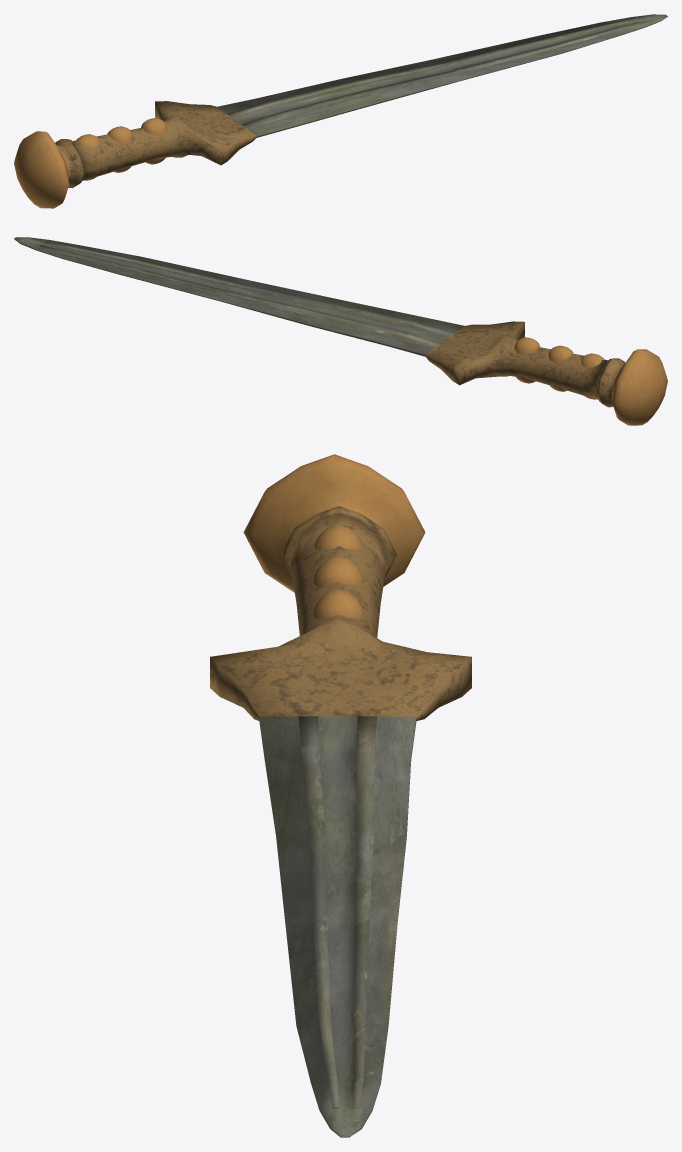
Rendered from bronze_age_short_sword.glb.
3 views of the same model, one above another, from view 1: azimuth 30°, elevation 25°; view 2: azimuth 150°, elevation 25°; view 3: azimuth 270°, elevation 25° (orthographic). The views are drawn at different scales.
Visible parts, largest first — view 1: Bronze Age Sword; view 2: Bronze Age Sword; view 3: Bronze Age Sword.
Part boxes in pixels (x1,y1,x2,y2): Bronze Age Sword: (14, 14, 667, 208); Bronze Age Sword: (14, 237, 667, 425); Bronze Age Sword: (210, 454, 471, 1137).
Size of the model in its own units: 10.62 by 1.2 by 1.88.
Materials: 3 (3 with a texture image).
